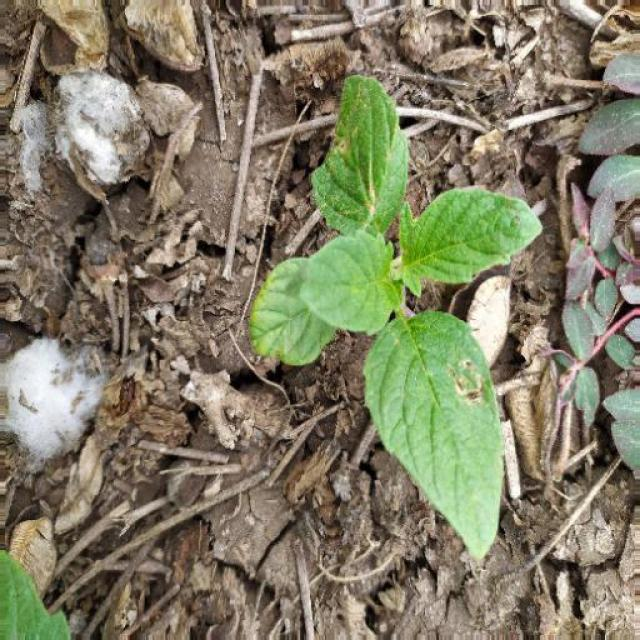crop: (235, 55, 519, 564)
